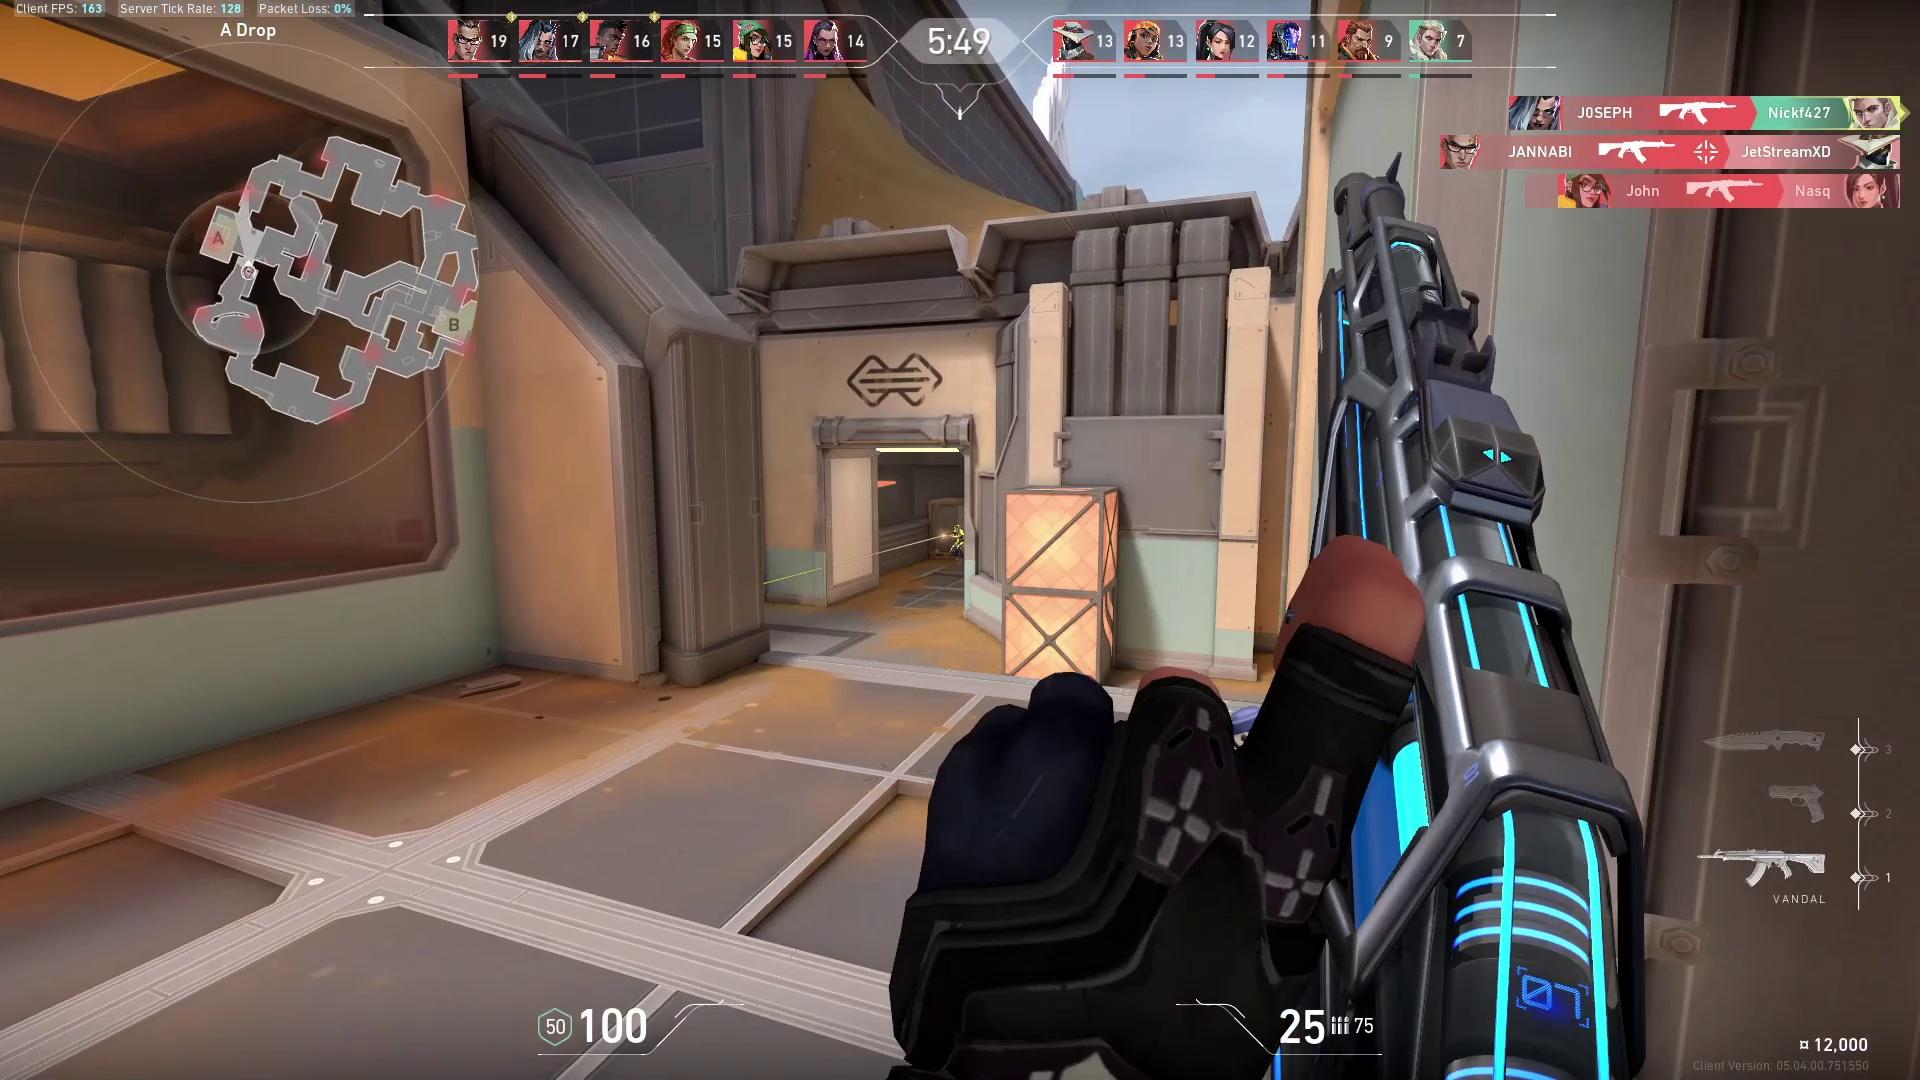enemy_body: (949, 533, 965, 563)
enemy_head: (952, 524, 962, 533)
